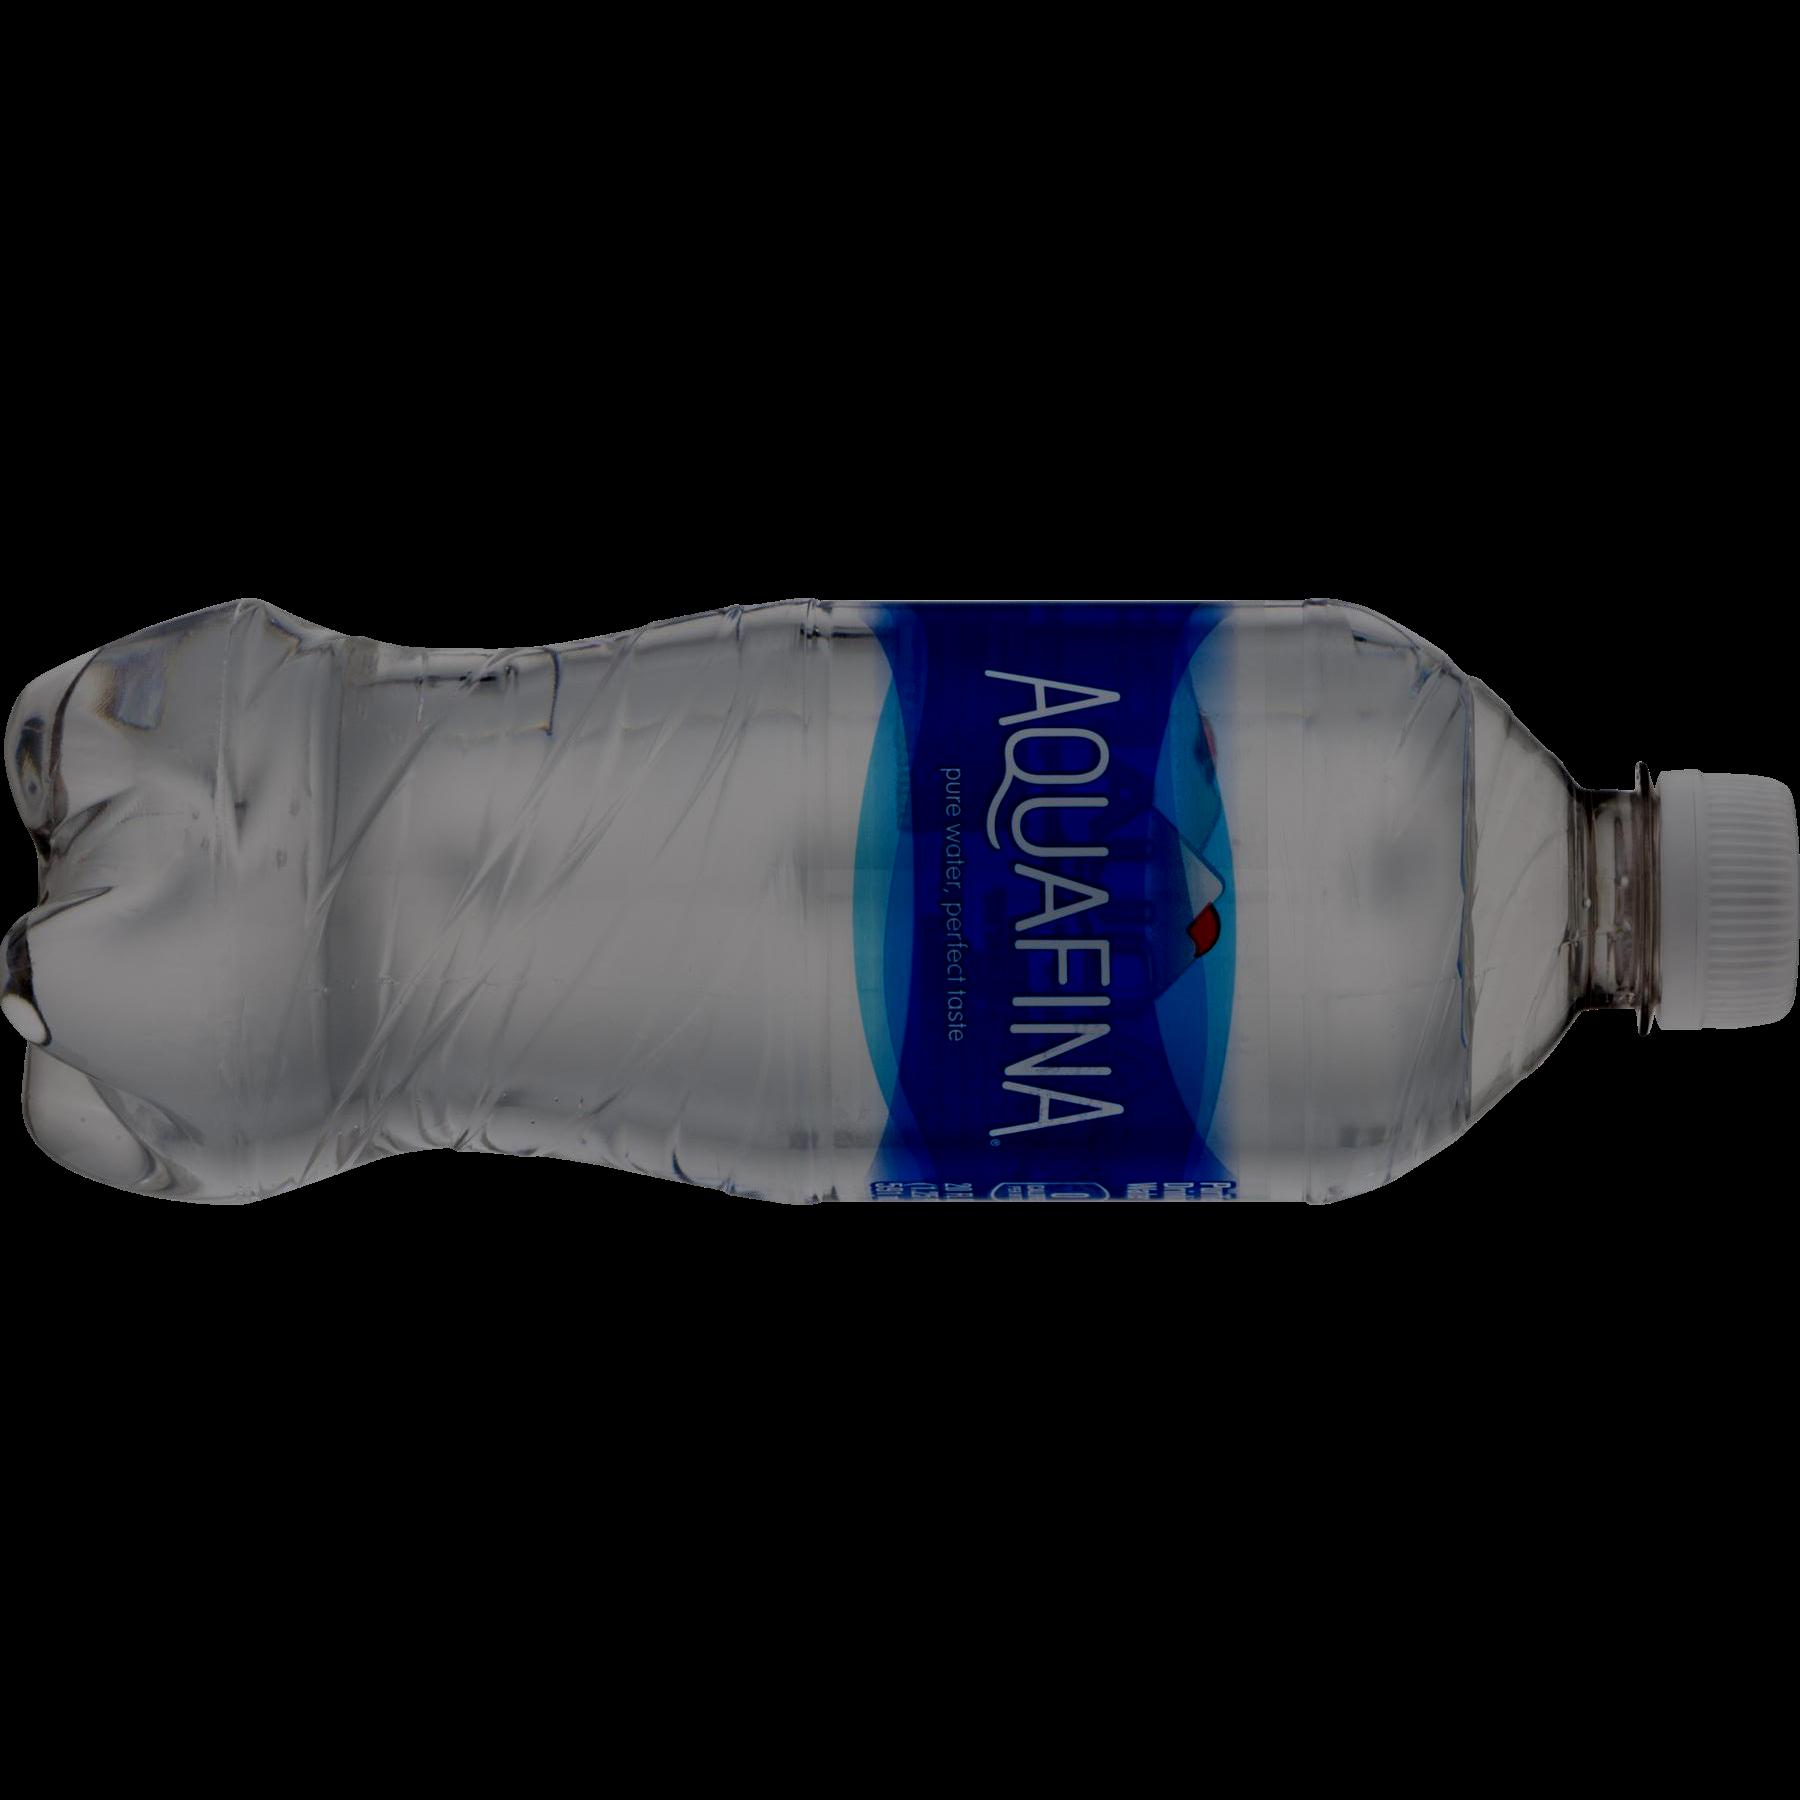bottle: (3, 495, 1800, 1259)
